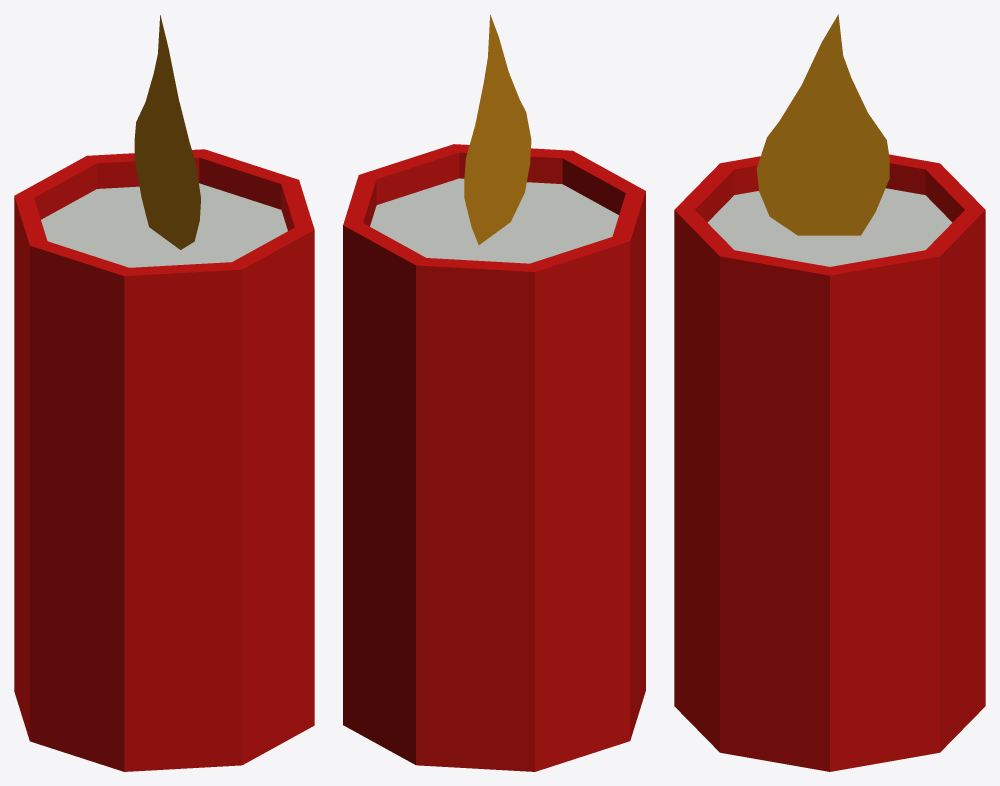
File: ofrenda_veladora.obj
The picture shows the model from 3 angles, left to right: view 1: azimuth 30°, elevation 25°; view 2: azimuth 150°, elevation 25°; view 3: azimuth 270°, elevation 25°; orthographic projection.
Parts seen in each view (by area): view 1: ofrenda_veladora; view 2: ofrenda_veladora; view 3: ofrenda_veladora.
Boxes of the visible parts, x1,y1,x2,y2 form: ofrenda_veladora: (14, 15, 314, 771); ofrenda_veladora: (343, 14, 645, 771); ofrenda_veladora: (674, 14, 985, 771).
Size of the model in its own units: 0.02 by 0.0491 by 0.02.
